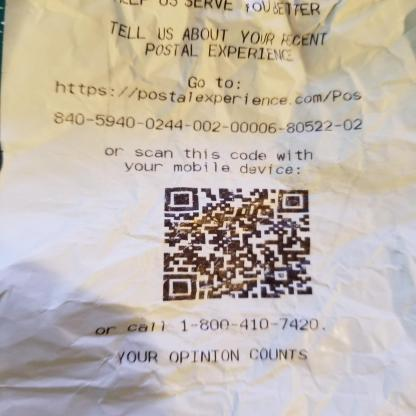qr: (157, 184, 320, 306)
